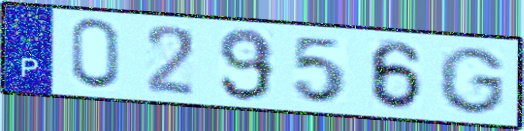0: (67, 16, 123, 94)
2: (143, 24, 198, 98)
5: (290, 35, 352, 105)
6: (367, 38, 428, 113)
9: (216, 26, 277, 104)
G: (435, 44, 508, 117)
